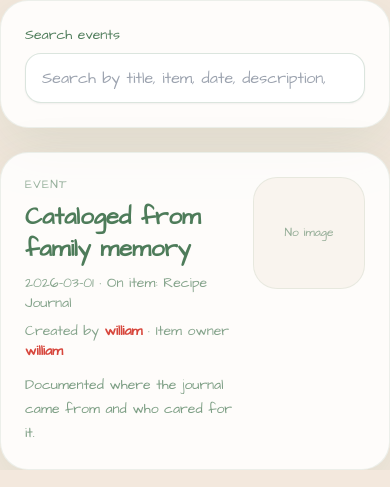
Test case: EventsPageContent › shows an empty filtered state when no events match the search term
Type "not-a-match" into the search field labelled "Search events" at (195, 78), box top-left (25, 53), bottom-right (365, 103)
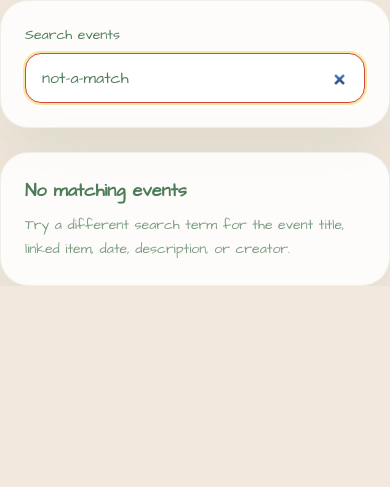
Check: the text "No matching events" is shown, box top-left (25, 178), bottom-right (187, 203)
Check: the link "Cataloged from family memory" is gone
